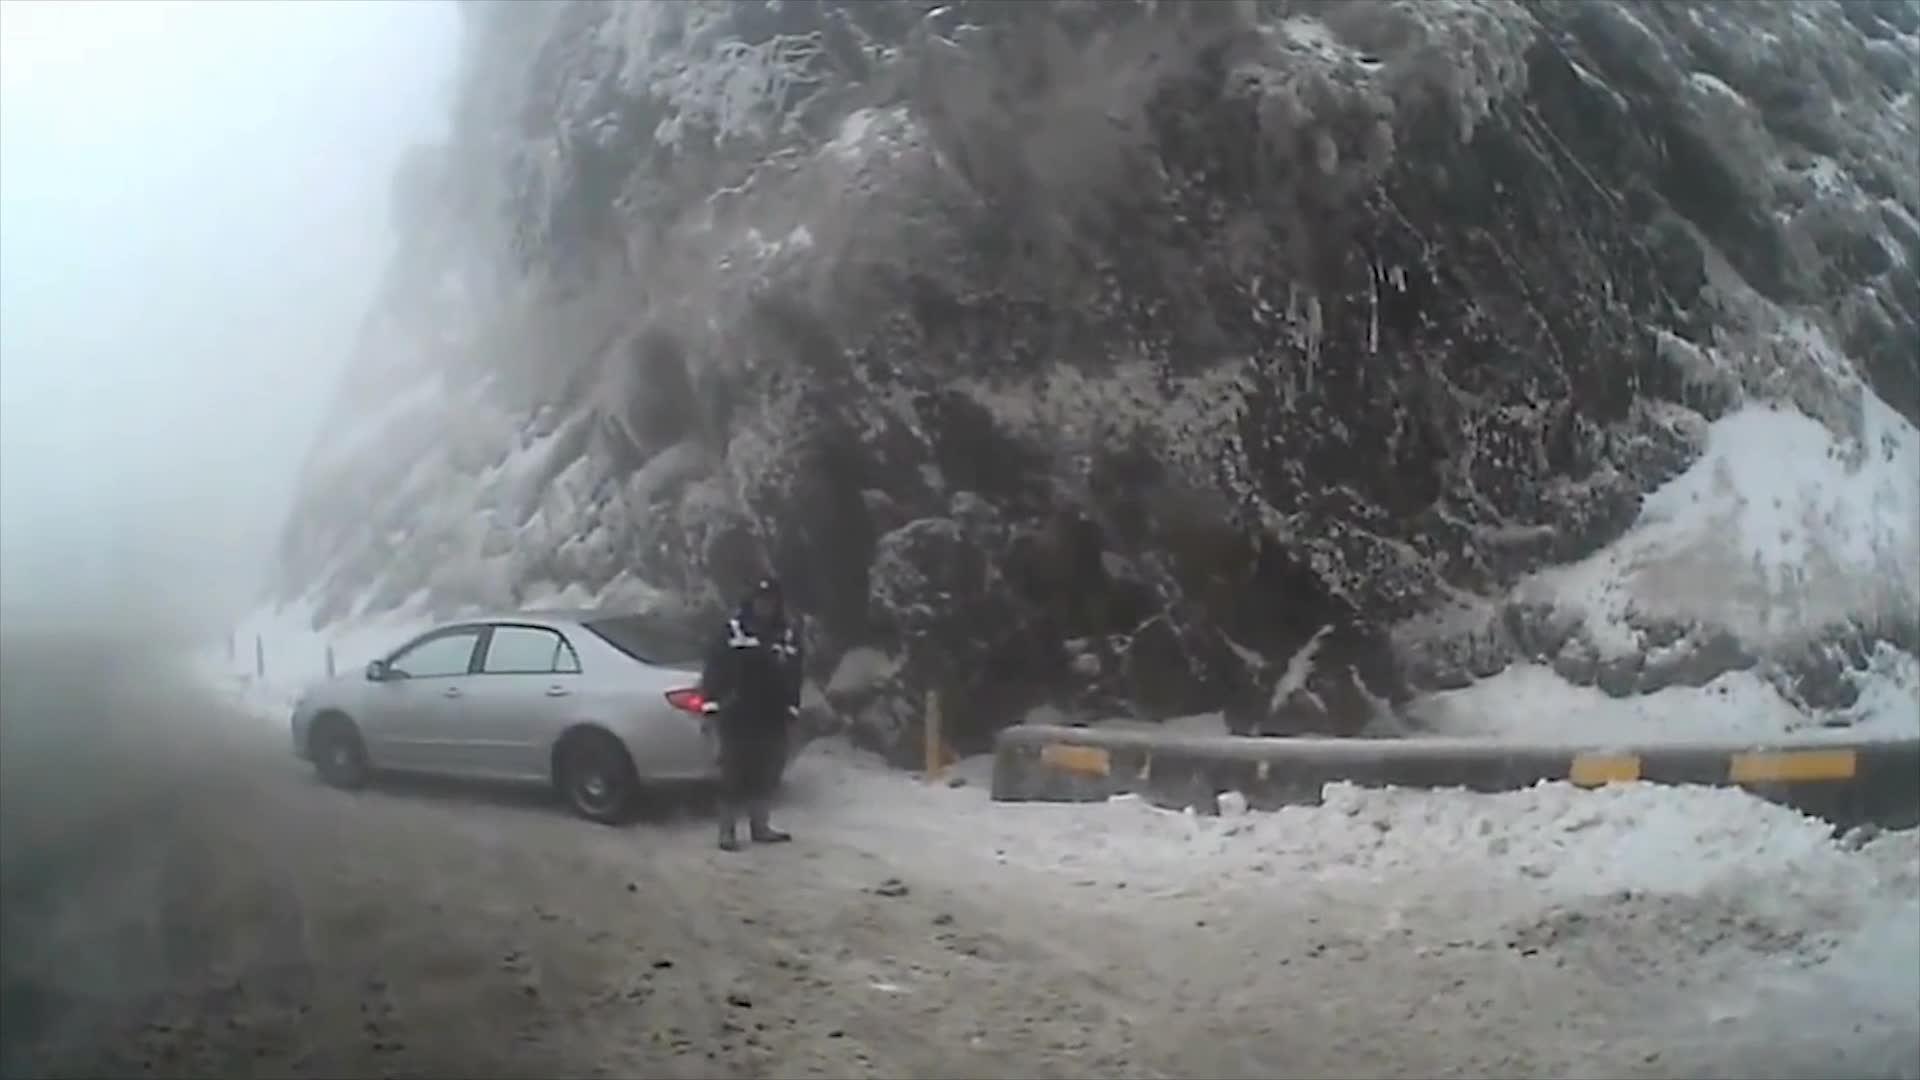pedestrian: (700, 567, 806, 844)
vehicle: (290, 602, 802, 826)
